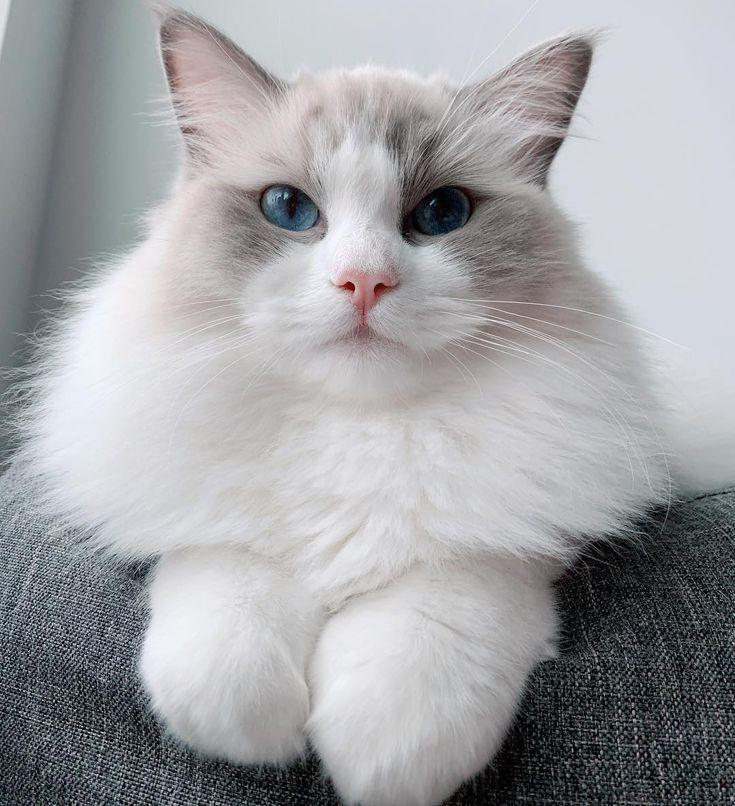ragdoll: (148, 1, 601, 422)
